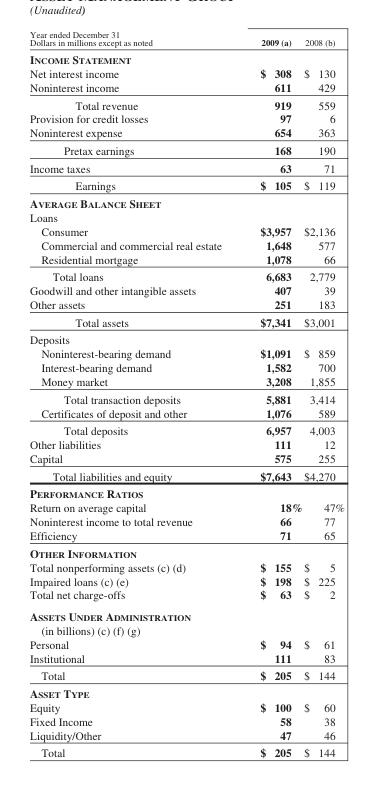table: (29, 28, 344, 758)
table column: (29, 28, 240, 758), (240, 28, 302, 758), (302, 28, 344, 758)
table column header: (29, 28, 344, 49)
table projected row header: (29, 605, 344, 622), (29, 49, 344, 65), (29, 194, 344, 210), (29, 330, 344, 346), (29, 484, 344, 500), (29, 543, 344, 559), (29, 684, 344, 699), (29, 622, 344, 636), (29, 210, 344, 223)
table row: (29, 28, 344, 49), (29, 158, 344, 176), (29, 176, 344, 194), (29, 312, 344, 330), (29, 466, 344, 484), (29, 587, 344, 605), (29, 666, 344, 684), (29, 141, 344, 158), (29, 605, 344, 622), (29, 49, 344, 65), (29, 79, 344, 95), (29, 95, 344, 111), (29, 125, 344, 141), (29, 194, 344, 210), (29, 251, 344, 267), (29, 267, 344, 283), (29, 330, 344, 346), (29, 389, 344, 405), (29, 405, 344, 421), (29, 421, 344, 437), (29, 484, 344, 500), (29, 543, 344, 559), (29, 650, 344, 666), (29, 727, 344, 743), (29, 297, 344, 312), (29, 374, 344, 389), (29, 451, 344, 466), (29, 528, 344, 543), (29, 684, 344, 699), (29, 743, 344, 758), (29, 65, 344, 79), (29, 111, 344, 125), (29, 223, 344, 237), (29, 237, 344, 251), (29, 283, 344, 297), (29, 346, 344, 360), (29, 360, 344, 374), (29, 437, 344, 451), (29, 500, 344, 514), (29, 514, 344, 528), (29, 559, 344, 573), (29, 573, 344, 587), (29, 622, 344, 636), (29, 636, 344, 650), (29, 699, 344, 713), (29, 713, 344, 727), (29, 210, 344, 223)
